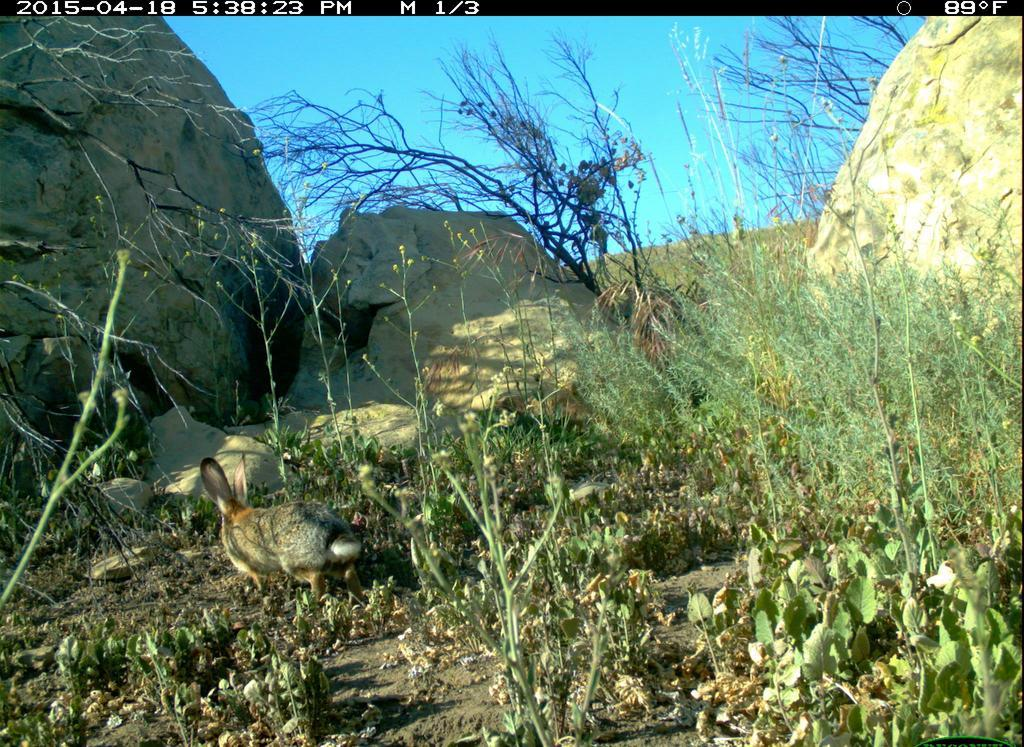rabbit: (196, 451, 376, 610)
